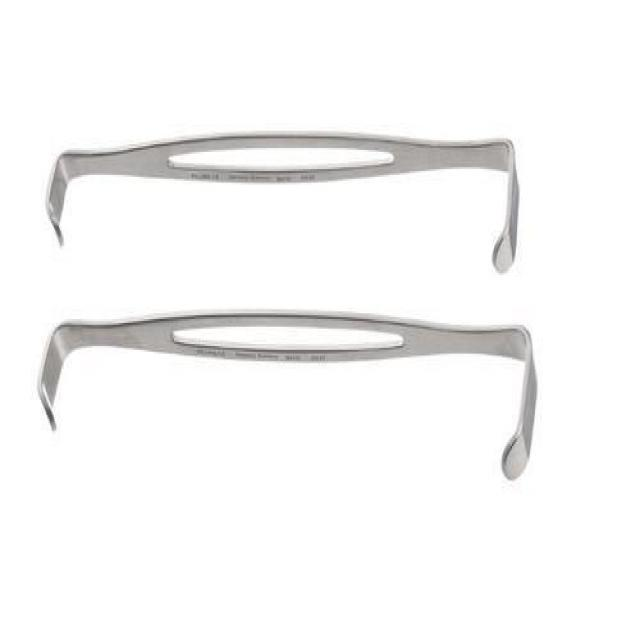Army_navy: (36, 306, 540, 487), (42, 123, 524, 281)
